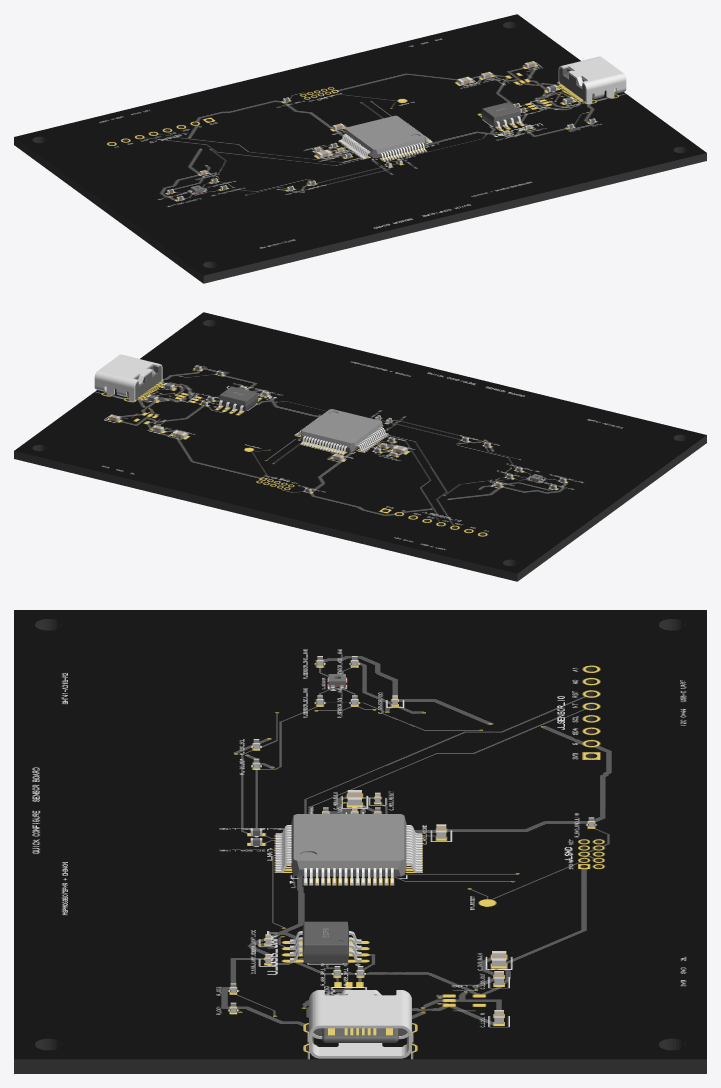
The picture shows the model from 3 angles, top to bottom: view 1: azimuth 30°, elevation 25°; view 2: azimuth 150°, elevation 25°; view 3: azimuth 270°, elevation 25°; orthographic projection. The views are drawn at different scales.
Visible parts, largest first — view 1: Box0, U_MAIN, J_USB, U_USB_UART; view 2: Box0, U_MAIN, J_USB, U_USB_UART; view 3: Box0, U_MAIN, J_USB, U_USB_UART.
Boxes of the visible parts, x1=… form: Box0: x1=14, y1=14, x2=706, y2=283; U_MAIN: x1=338, y1=115, x2=432, y2=161; J_USB: x1=558, y1=56, x2=626, y2=103; U_USB_UART: x1=480, y1=102, x2=522, y2=129; Box0: x1=14, y1=312, x2=706, y2=581; U_MAIN: x1=294, y1=409, x2=388, y2=454; J_USB: x1=94, y1=354, x2=162, y2=401; U_USB_UART: x1=217, y1=386, x2=259, y2=413; Box0: x1=14, y1=610, x2=706, y2=1073; U_MAIN: x1=275, y1=814, x2=422, y2=885; J_USB: x1=309, y1=990, x2=411, y2=1058; U_USB_UART: x1=290, y1=921, x2=361, y2=963.
Size of the model in its own units: 92.04 by 4.65 by 60.
20 materials, 2 textured.
